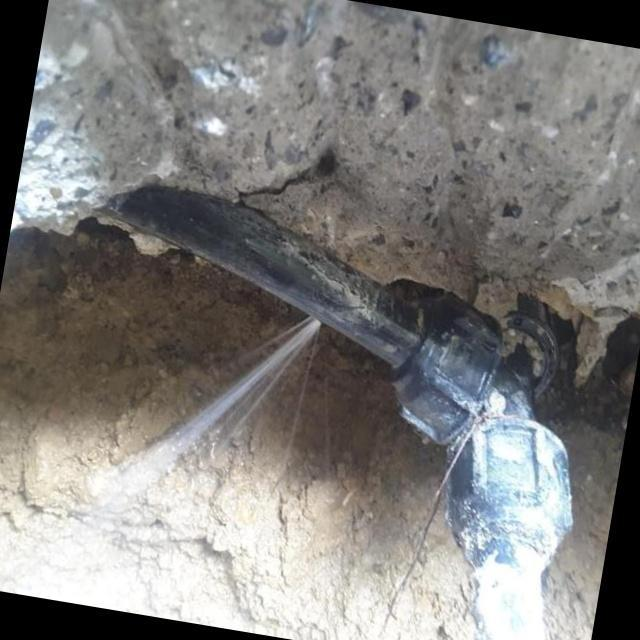pipe burst: (119, 307, 332, 496)
